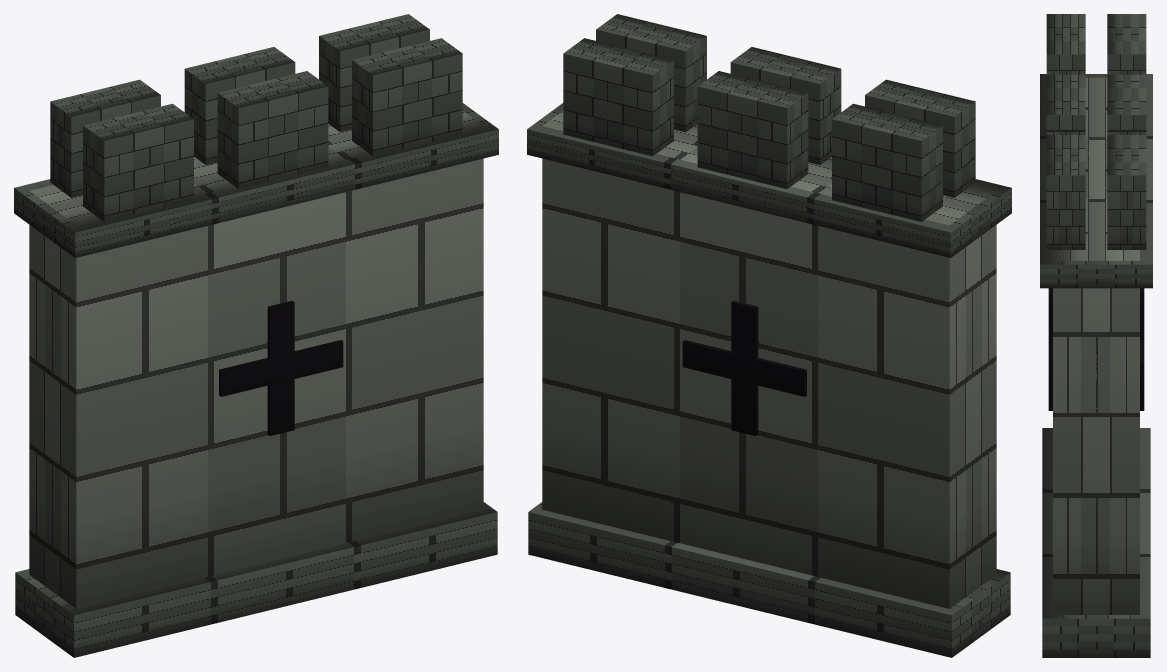
The model's file is wall_arrow_dark.gltf.
3 renders of one model, left to right at view 1: azimuth 30°, elevation 25°; view 2: azimuth 150°, elevation 25°; view 3: azimuth 270°, elevation 25°, orthographic. The views are drawn at different scales.
Visible parts, largest first — view 1: wall_arrow_dark; view 2: wall_arrow_dark; view 3: wall_arrow_dark.
Boxes of the visible parts, x1,y1,x2,y2 form: wall_arrow_dark: [14, 14, 498, 657]; wall_arrow_dark: [527, 14, 1011, 657]; wall_arrow_dark: [1040, 14, 1152, 657].
Size of the model in its own units: 1.04 by 1.19 by 0.26.
1 material, 1 textured.
